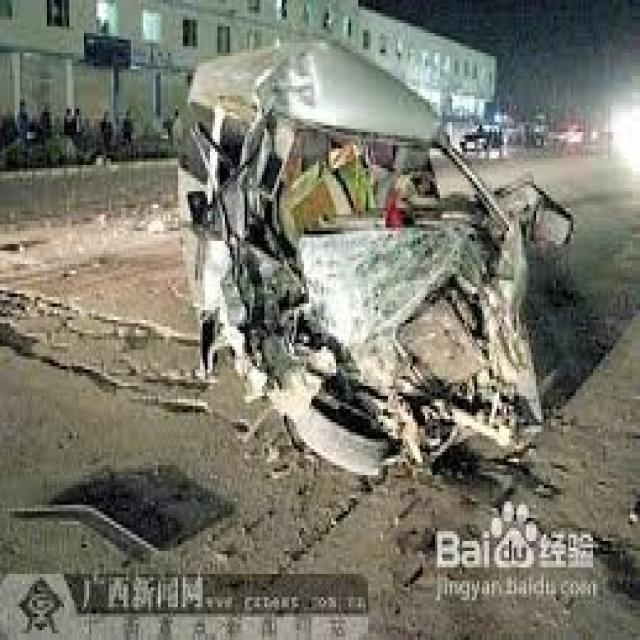accident: (155, 20, 588, 512)
